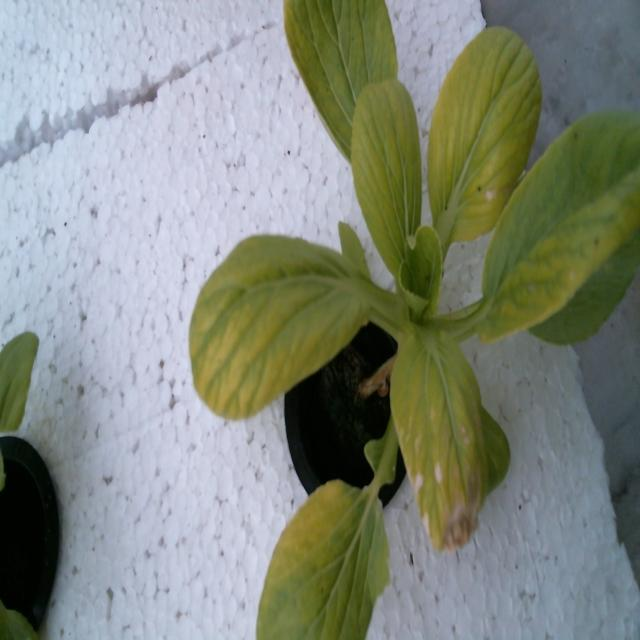pakcoy_tidak_sehat: (186, 0, 640, 640)
